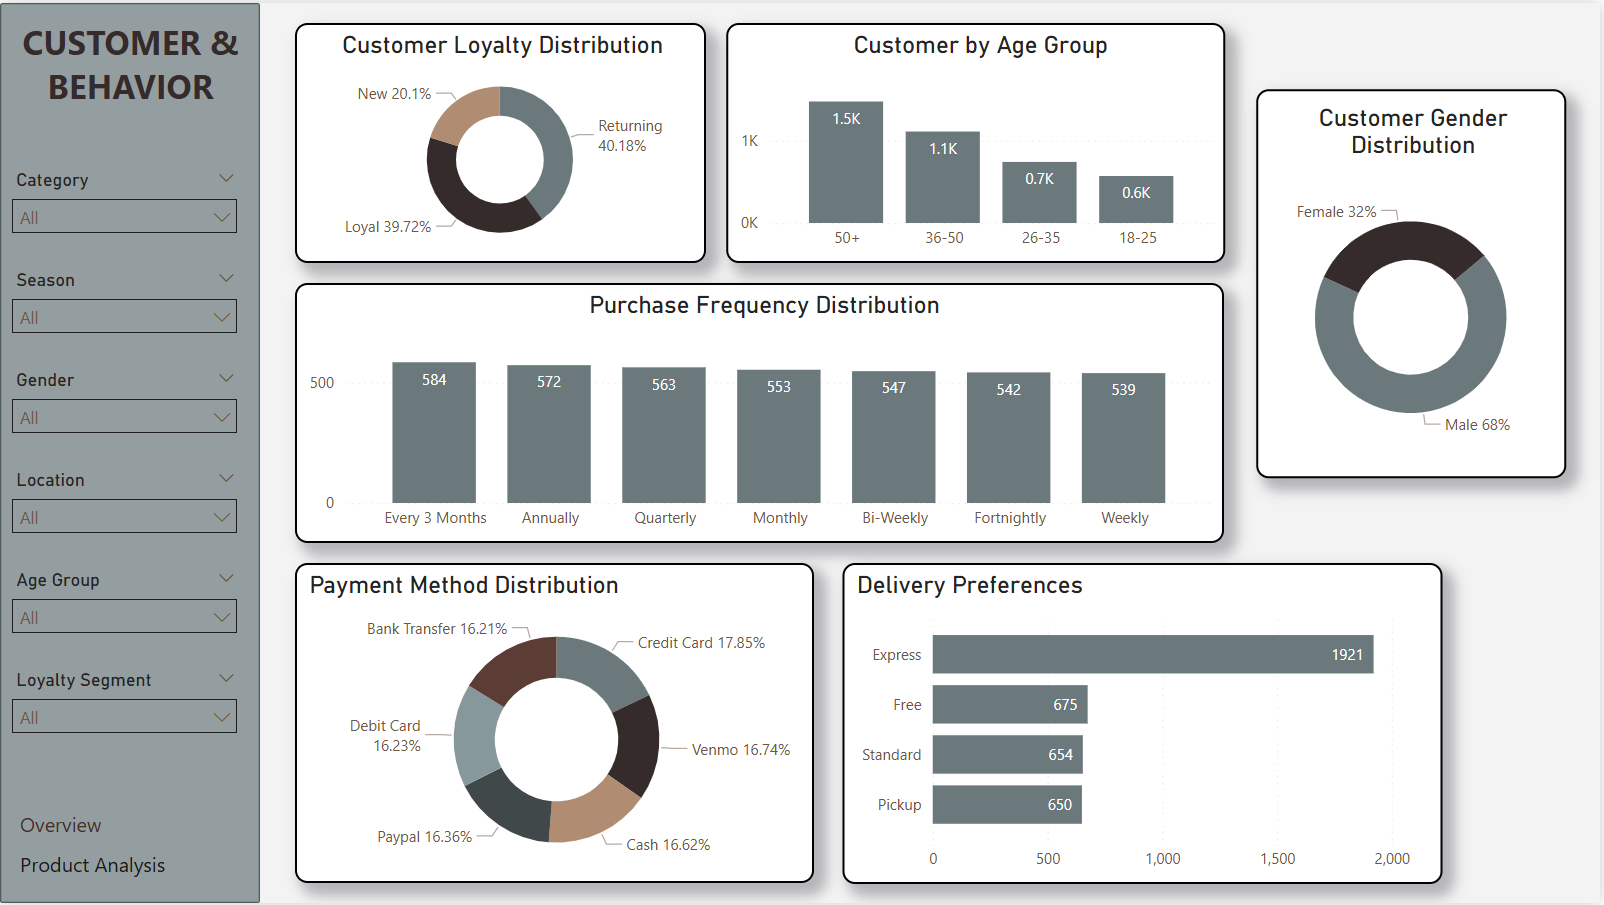

What the dashboard file says about the page in this screenshot:
{"tool":"powerbi","page":{"name":"Customer & Behavior","canvas":[1280,720],"ordinal":2},"visuals":[{"type":"shape","box":[0,0,207.9,719.6],"z":0},{"type":"clusteredColumnChart","title":"Customer by Age Group","fields":{"Category":["customer-shopping-trends.Age Group"],"Y":["Count(customer-shopping-trends.Customer ID)"]},"box":[580.8,15.7,399.7,192.7],"z":1000},{"type":"donutChart","title":"Customer Loyalty Distribution","fields":{"Category":["customer-shopping-trends.Loyalty"],"Y":["Count(customer-shopping-trends.Customer ID)"]},"box":[236.2,16.3,328.7,191.9],"z":2000},{"type":"slicer","fields":{"Values":["customer-shopping-trends.Category"]},"box":[0,127.9,199.9,80],"z":3000},{"type":"clusteredColumnChart","title":"Purchase Frequency Distribution","fields":{"Category":["customer-shopping-trends.Frequency of Purchases"],"Y":["Count(customer-shopping-trends.Customer ID)"]},"box":[236.1,224,743.3,208.2],"z":4000},{"type":"slicer","fields":{"Values":["customer-shopping-trends.Season"]},"box":[0,207.9,199.9,80],"z":5000},{"type":"donutChart","title":"Payment Method Distribution","fields":{"Y":["Count(customer-shopping-trends.Customer ID)"],"Category":["customer-shopping-trends.Payment Method"]},"box":[236.4,447.9,415,256],"z":6000},{"type":"slicer","fields":{"Values":["customer-shopping-trends.Gender"]},"box":[0,287.8,199.9,80],"z":7000},{"type":"clusteredBarChart","title":"Delivery Preferences","fields":{"Category":["customer-shopping-trends.Shipping Speed"],"Y":["Count(customer-shopping-trends.Customer ID)"]},"box":[673.5,447.6,480.4,257.3],"z":8000},{"type":"slicer","fields":{"Values":["customer-shopping-trends.Location"]},"box":[0,367.8,199.9,80],"z":9000},{"type":"actionButton","title":"Overview","box":[16,640,144,32],"z":10000},{"type":"slicer","fields":{"Values":["customer-shopping-trends.Age Group"]},"box":[0,447.7,199.9,80],"z":11000},{"type":"actionButton","title":"Overview","box":[16,672,208,32],"z":12000},{"type":"slicer","fields":{"Values":["customer-shopping-trends.Loyalty"]},"box":[0,527.7,199.9,80],"z":13000},{"type":"pieChart","title":"Customer Gender Distribution","fields":{"Category":["customer-shopping-trends.Gender"],"Y":["Count(customer-shopping-trends.Customer ID)"]},"box":[1005,68.7,247.9,310.9],"z":14000}]}

Visuals, with their boxes in screenshot pixels (x1, y1, x2, y2), scaled from the page's 1280x720 canvas onto the 1604x905 screenshot:
shape: bbox=[0, 0, 261, 904]
"Customer by Age Group" clusteredColumnChart: bbox=[728, 20, 1229, 262]
"Customer Loyalty Distribution" donutChart: bbox=[296, 20, 708, 262]
slicer - customer-shopping-trends.Category: bbox=[0, 161, 250, 261]
"Purchase Frequency Distribution" clusteredColumnChart: bbox=[296, 282, 1227, 543]
slicer - customer-shopping-trends.Season: bbox=[0, 261, 250, 362]
"Payment Method Distribution" donutChart: bbox=[296, 563, 816, 885]
slicer - customer-shopping-trends.Gender: bbox=[0, 362, 250, 462]
"Delivery Preferences" clusteredBarChart: bbox=[844, 563, 1446, 886]
slicer - customer-shopping-trends.Location: bbox=[0, 462, 250, 563]
"Overview" actionButton: bbox=[20, 804, 200, 845]
slicer - customer-shopping-trends.Age Group: bbox=[0, 563, 250, 663]
"Overview" actionButton: bbox=[20, 845, 281, 885]
slicer - customer-shopping-trends.Loyalty: bbox=[0, 663, 250, 764]
"Customer Gender Distribution" pieChart: bbox=[1259, 86, 1570, 477]
